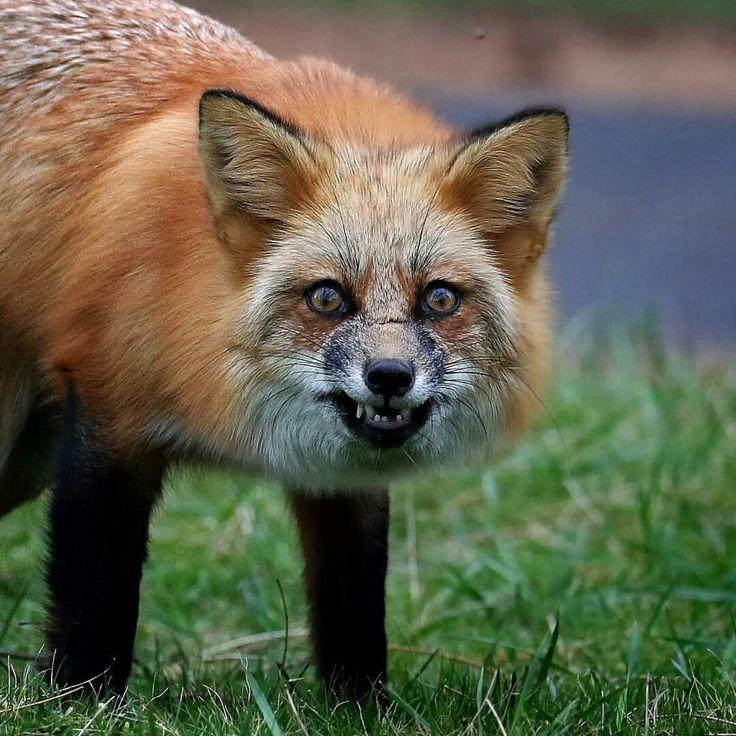fox: (1, 0, 575, 723)
